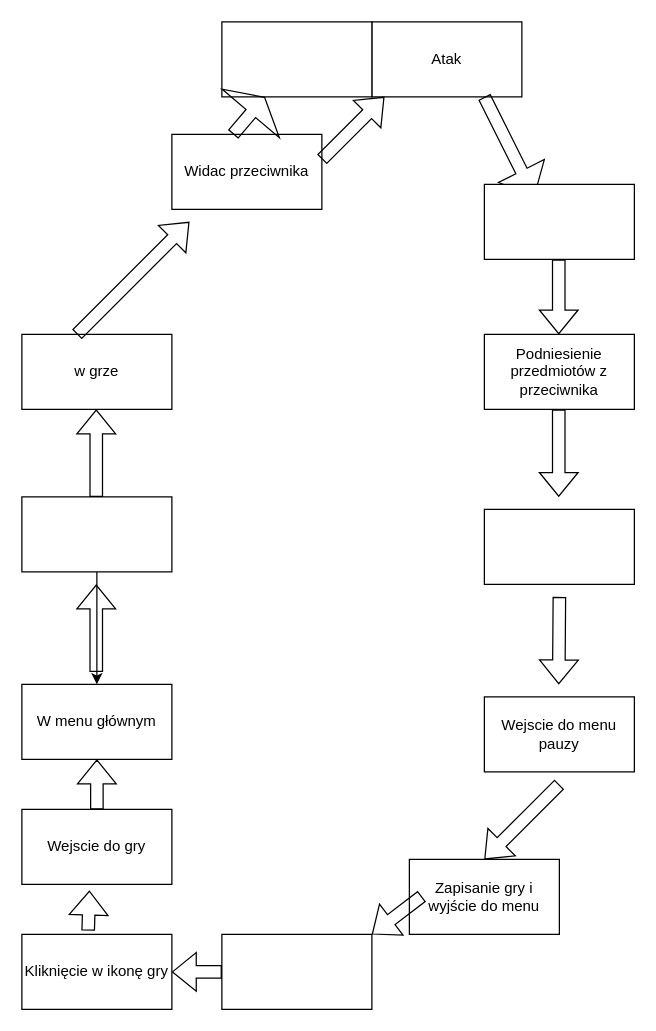
The diagram is 656 pixels wide and 1031 high, and some of its shapes have lost their labels. Each missing label, with the centre of its shape:
"Blok" belongs at point 296,59.
"Pokonanie przeciwnika" belongs at point 558,221.
"Wyjscie z gry" belongs at point 296,971.
"Wyposażenie się w podniesione przedmioty w ekwipunku" belongs at point 558,546.
"Właczenie save'a" belongs at point 96,534.
